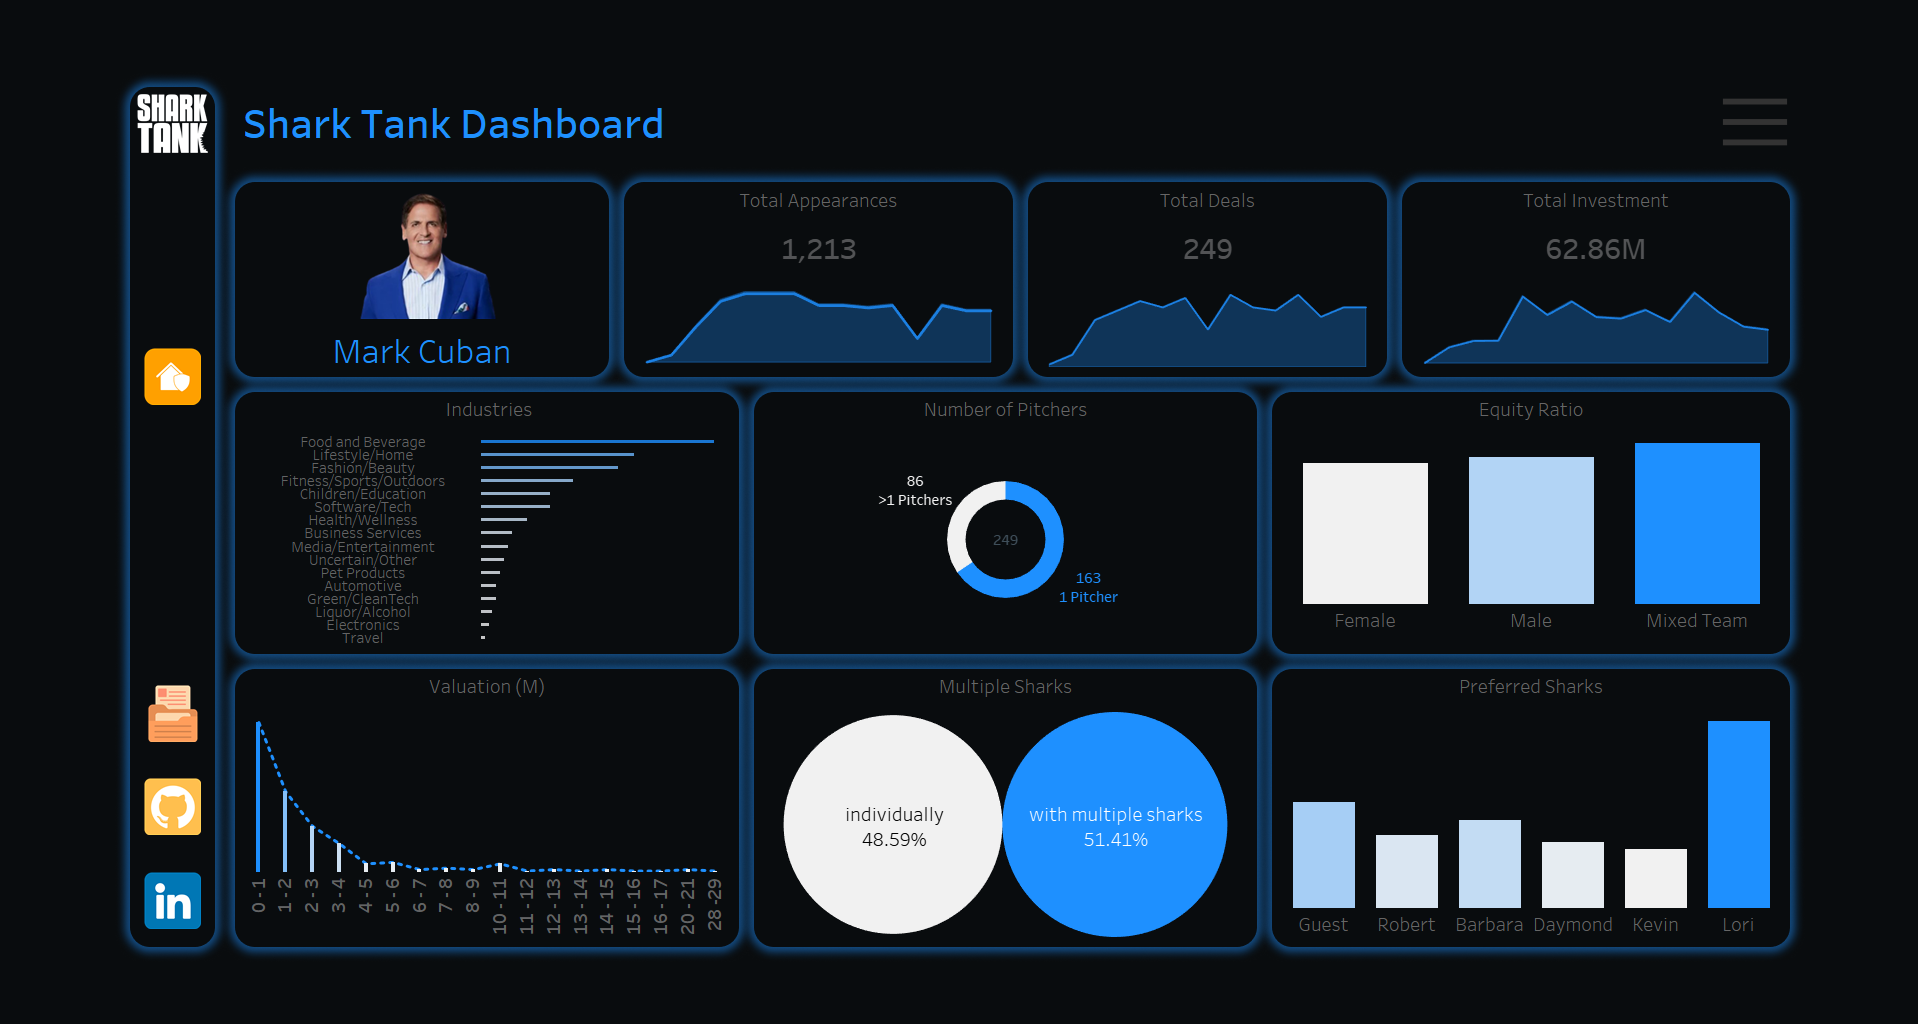

What the dashboard file says about the page in this screenshot:
{"tool":"tableau","page":{"name":"Mark Dashboard","canvas":[1700,900],"ordinal":5},"visuals":[{"type":"image","param":"Image/Mark Dashboard figma frame.png","box":[0,0,1700,900]},{"type":"image","param":"Image/Shark Tank Logo.png","box":[20,20,85,70]},{"type":"text","box":[125,20,912,70]},{"type":"filter","title":"Mark Top 5 Industries by No of Deals","param":"[federated.1ieom2h10l72pi1cs9e2u08v19sh].[none:industry:nk]","box":[1037,20,231,70]},{"type":"blank","box":[1037,20,321.5,70]},{"type":"filter","title":"Mark Top 5 Industries by No of Deals","param":"[federated.1ieom2h10l72pi1cs9e2u08v19sh].[none:season:ok]","box":[1268,20,253,70]},{"type":"blank","box":[1358.5,20,321.5,70]},{"type":"dashboard-object","box":[1610,20,70,70]},{"type":"blank","box":[20,90,85,156]},{"type":"image","param":"Image/Mark Cuban.png","box":[125,115,374,142]},{"type":"text","box":[514,115,389,35]},{"type":"text","box":[918,115,359,35]},{"type":"text","box":[1292,115,388,35]},{"type":"worksheet","title":"BAN Mark Appearance","mark":"Text","box":[514,150,389,61]},{"type":"worksheet","title":"BAN Mark Deals","mark":"Text","box":[918,150,359,61]},{"type":"worksheet","title":"BAN Mark Total Investment","mark":"Text","box":[1292,150,388,61]},{"type":"worksheet","title":"Mark Appearances","mark":"Area","rows":["mark","mark"],"cols":["season"],"box":[514,211,389,99]},{"type":"worksheet","title":"Mark Deals","mark":"Line","rows":["Mark_invested","Mark_invested"],"cols":["season"],"box":[918,211,359,99]},{"type":"worksheet","title":"Mark Total Investment","mark":"Line","rows":["mark_inv_amt","mark_inv_amt"],"cols":["season"],"box":[1292,211,388,99]},{"type":"dashboard-object","box":[20,246,85,128]},{"type":"text","box":[125,257,374,53]},{"type":"text","box":[125,325,504,33]},{"type":"text","box":[644,325,503,33]},{"type":"text","box":[1162,325,518,33]},{"type":"worksheet","title":"Mark Top 5 Industries by No of Deals","mark":"Bar","rows":["industry"],"cols":["Mark_invested"],"box":[125,358,504,229]},{"type":"worksheet","title":"Mark Preferences for No of Pitchers","mark":"Pie","rows":["Calculation_1245245364195418118","Calculation_1245245364195418118"],"box":[644,358,503,229]},{"type":"worksheet","title":"Mark Preferences for Offered:Deal Ratio","mark":"Automatic","rows":["Calculation_2397322443195224066"],"cols":["gender"],"box":[1162,358,518,229]},{"type":"blank","box":[20,374,85,226]},{"type":"image","param":"Image/portfolio-folder.png","box":[20,600,85,93.3]},{"type":"text","box":[125,602,504,33]},{"type":"text","box":[644,602,503,33]},{"type":"text","box":[1162,602,518,33]},{"type":"worksheet","title":"Mark Mode of Deal Valuation (M)","mark":"Line","rows":["data_1A36516F31B94259A03002EB3918A69C","data_1A36516F31B94259A03002EB3918A69C"],"cols":["Deal Valuation (bin)"],"box":[125,635,504,245]},{"type":"worksheet","title":"Mark Preferences for Multi Shark Deals","mark":"Circle","box":[644,635,503,245]},{"type":"worksheet","title":"Mark Shark Pairing Preferences","mark":"Automatic","cols":["Mark_invested"],"box":[1162,635,518,245]},{"type":"image","param":"Image/github.png","box":[20,693.3,85,93.3]},{"type":"image","param":"Image/follow-me-on-linkedin-social-badge.png","box":[20,786.7,85,93.3]}]}

Visuals, with their boxes in screenshot pixels (x1, y1, x2, y2), scaled from the page's 1700x900 canvas onto the 1918x1024 screenshot:
image: (0, 0, 1917, 1023)
image: (23, 23, 118, 102)
text: (141, 23, 1170, 102)
"Mark Top 5 Industries by No of Deals" filter: (1170, 23, 1431, 102)
blank: (1170, 23, 1533, 102)
"Mark Top 5 Industries by No of Deals" filter: (1431, 23, 1716, 102)
blank: (1533, 23, 1895, 102)
dashboard-object: (1816, 23, 1895, 102)
blank: (23, 102, 118, 280)
image: (141, 131, 563, 292)
text: (580, 131, 1019, 171)
text: (1036, 131, 1441, 171)
text: (1458, 131, 1895, 171)
"BAN Mark Appearance" worksheet (Text marks): (580, 171, 1019, 240)
"BAN Mark Deals" worksheet (Text marks): (1036, 171, 1441, 240)
"BAN Mark Total Investment" worksheet (Text marks): (1458, 171, 1895, 240)
"Mark Appearances" worksheet (Area marks): (580, 240, 1019, 353)
"Mark Deals" worksheet (Line marks): (1036, 240, 1441, 353)
"Mark Total Investment" worksheet (Line marks): (1458, 240, 1895, 353)
dashboard-object: (23, 280, 118, 426)
text: (141, 292, 563, 353)
text: (141, 370, 710, 407)
text: (727, 370, 1294, 407)
text: (1311, 370, 1895, 407)
"Mark Top 5 Industries by No of Deals" worksheet (Bar marks): (141, 407, 710, 668)
"Mark Preferences for No of Pitchers" worksheet (Pie marks): (727, 407, 1294, 668)
"Mark Preferences for Offered:Deal Ratio" worksheet: (1311, 407, 1895, 668)
blank: (23, 426, 118, 683)
image: (23, 683, 118, 789)
text: (141, 685, 710, 722)
text: (727, 685, 1294, 722)
text: (1311, 685, 1895, 722)
"Mark Mode of Deal Valuation (M)" worksheet (Line marks): (141, 722, 710, 1001)
"Mark Preferences for Multi Shark Deals" worksheet (Circle marks): (727, 722, 1294, 1001)
"Mark Shark Pairing Preferences" worksheet: (1311, 722, 1895, 1001)
image: (23, 789, 118, 895)
image: (23, 895, 118, 1001)
